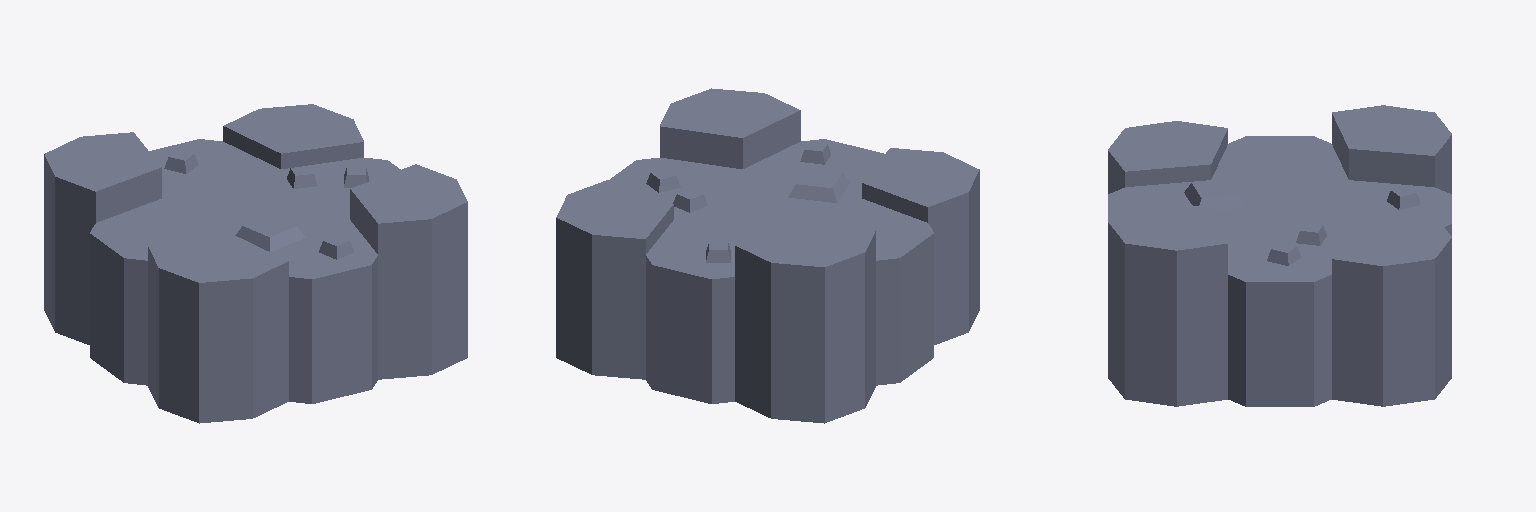
Rendered from rocks.obj.
3 views of the same model, side by side, from view 1: azimuth 30°, elevation 25°; view 2: azimuth 150°, elevation 25°; view 3: azimuth 270°, elevation 25° (orthographic).
Parts seen in each view (by area): view 1: rocks; view 2: rocks; view 3: rocks.
Part boxes in pixels (bbox=[...]): rocks: bbox=[44, 104, 467, 423]; rocks: bbox=[556, 88, 979, 423]; rocks: bbox=[1108, 105, 1451, 406].
Size of the model in its own units: 1 by 0.5 by 1.